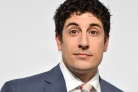male: (53, 2, 113, 76)
